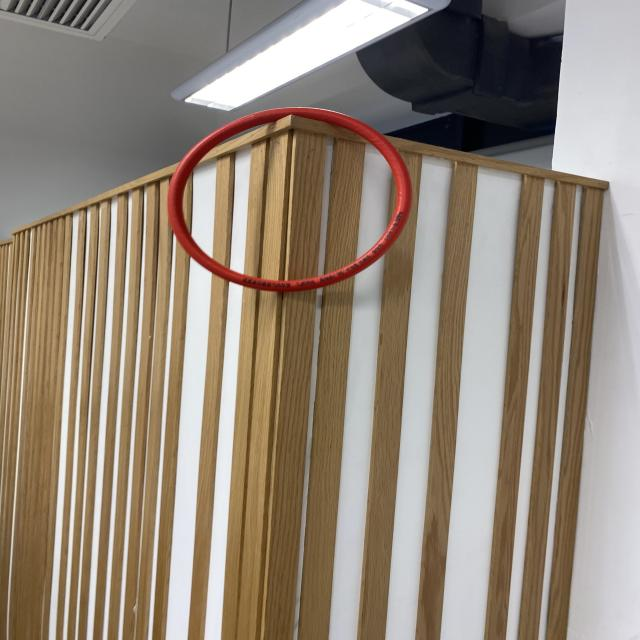daire: (163, 101, 420, 298)
